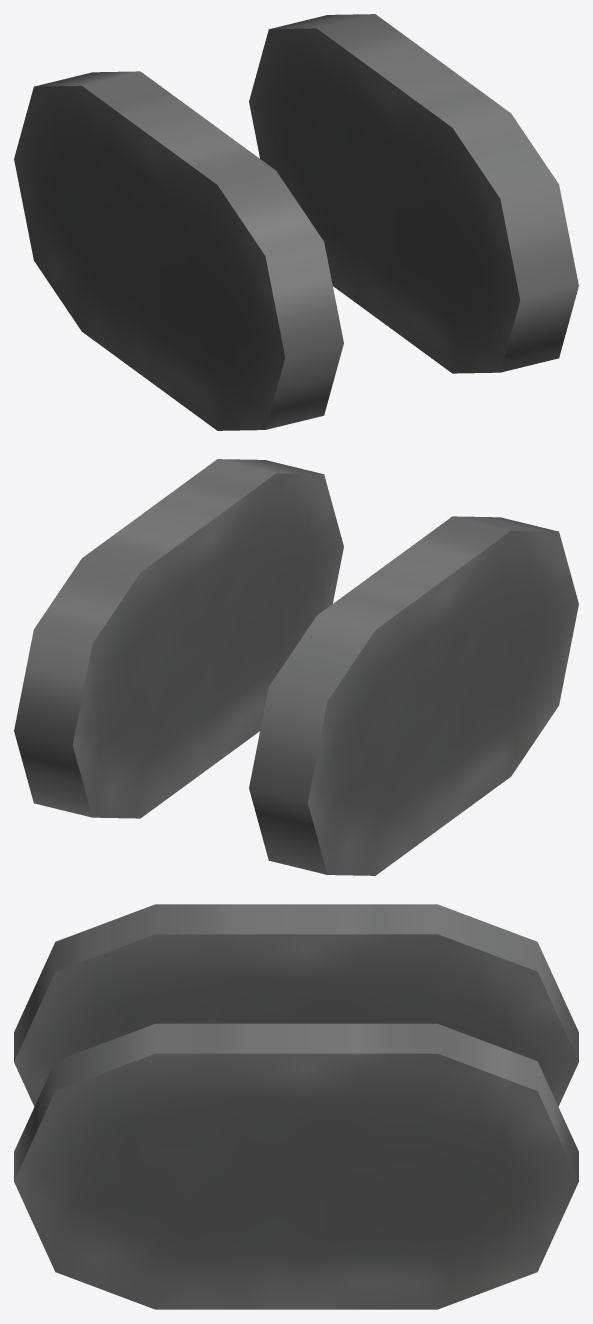
Rendered from lepus_dish_antenna_srf_1_hinge.obj.
3 views of the same model, one above another, from view 1: azimuth 30°, elevation 25°; view 2: azimuth 150°, elevation 25°; view 3: azimuth 270°, elevation 25° (orthographic). The views are drawn at different scales.
Parts seen in each view (by area): view 1: lepus_dish_antenna_srf_1_hinge; view 2: lepus_dish_antenna_srf_1_hinge; view 3: lepus_dish_antenna_srf_1_hinge.
Part boxes in pixels (x1,y1,x2,y2): lepus_dish_antenna_srf_1_hinge: [14, 14, 578, 430]; lepus_dish_antenna_srf_1_hinge: [14, 459, 578, 875]; lepus_dish_antenna_srf_1_hinge: [14, 904, 578, 1309].
Bounding box in the file's own units: 0.0625 × 0.05 × 0.1.
